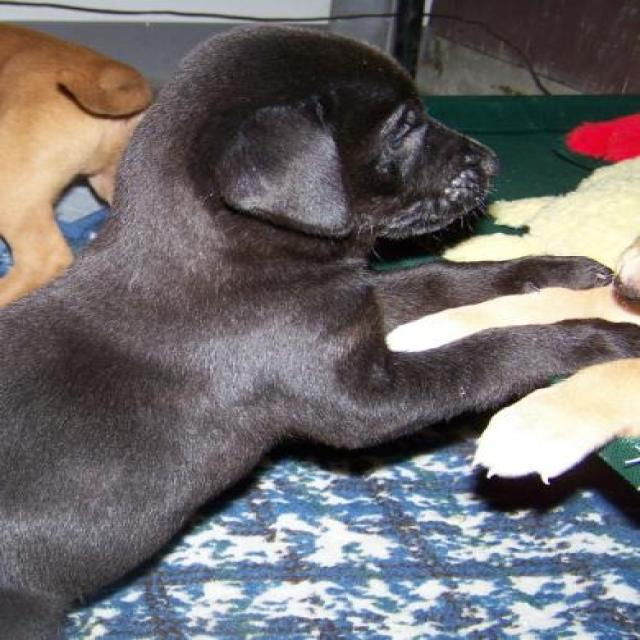Dogs: (0, 21, 638, 638)
